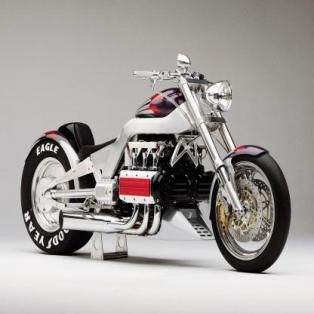Motocicleta: (17, 49, 294, 276)
